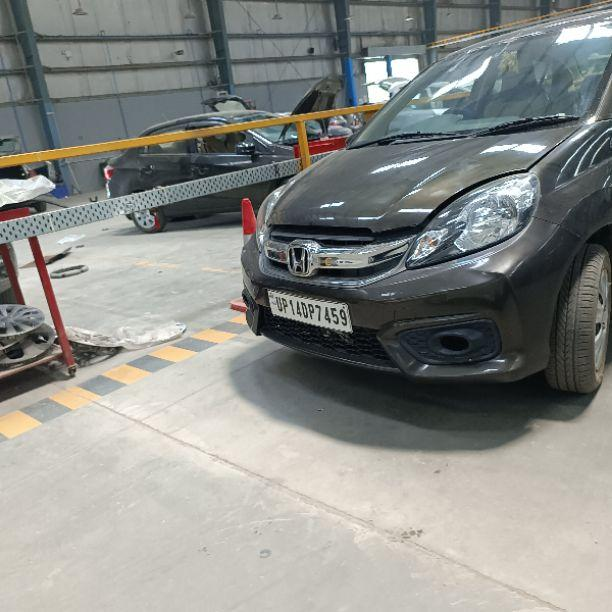license_plate: (265, 287, 353, 334)
